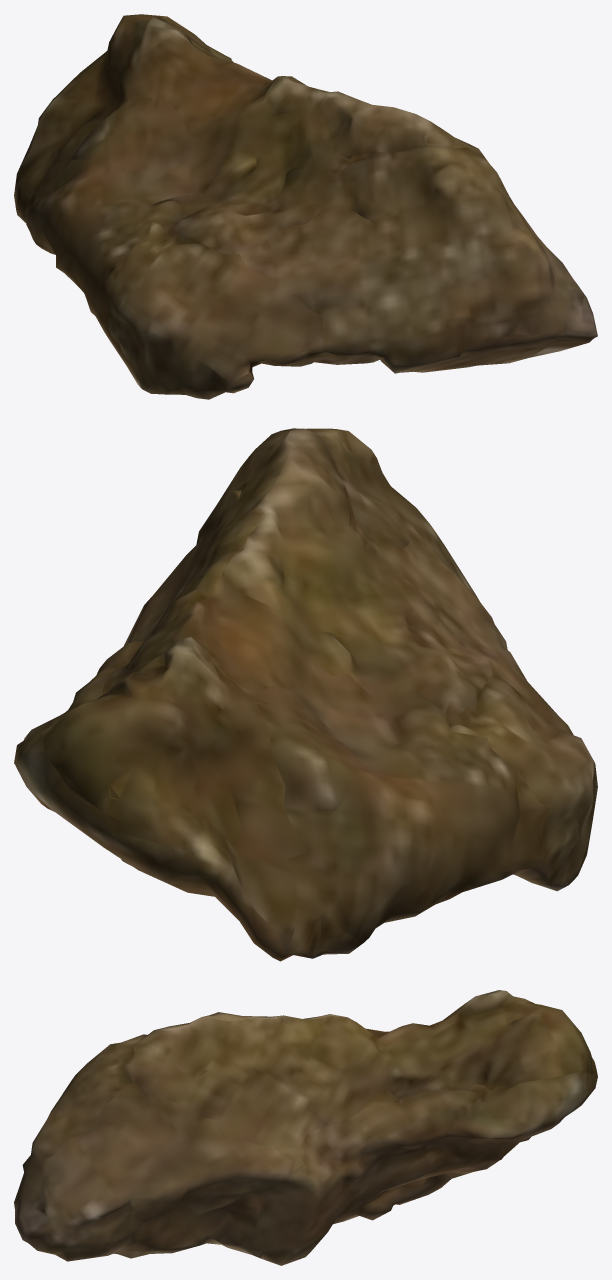
The picture shows the model from 3 angles, top to bottom: view 1: azimuth 30°, elevation 25°; view 2: azimuth 150°, elevation 25°; view 3: azimuth 270°, elevation 25°; orthographic projection. The views are drawn at different scales.
Parts seen in each view (by area): view 1: rock_moss_set_01__a_lod1; view 2: rock_moss_set_01__a_lod1; view 3: rock_moss_set_01__a_lod1.
Part boxes in pixels (x1,y1,x2,y2): rock_moss_set_01__a_lod1: [14, 14, 597, 399]; rock_moss_set_01__a_lod1: [14, 428, 597, 961]; rock_moss_set_01__a_lod1: [14, 990, 597, 1265].
Bounding box in the file's own units: 2.24 × 1.47 × 3.36.
1 material, 1 textured.
